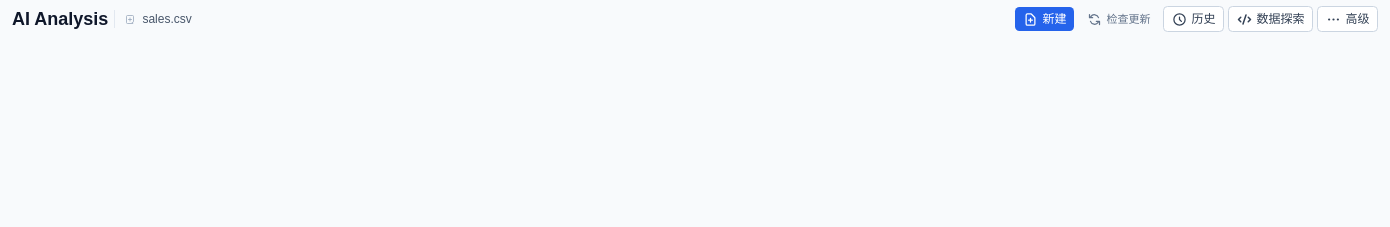
end user mode UI surfaces › localizes all primary and advanced header actions in Mandarin
The width and height of the screenshot is (1390, 227).
Expected: the button "新建" is shown, left=1015, top=7, right=1074, bottom=31
Expected: the button "历史" is shown, left=1164, top=6, right=1224, bottom=32
Click the button "高级". click: click(1348, 19)
box: left=1318, top=6, right=1378, bottom=32
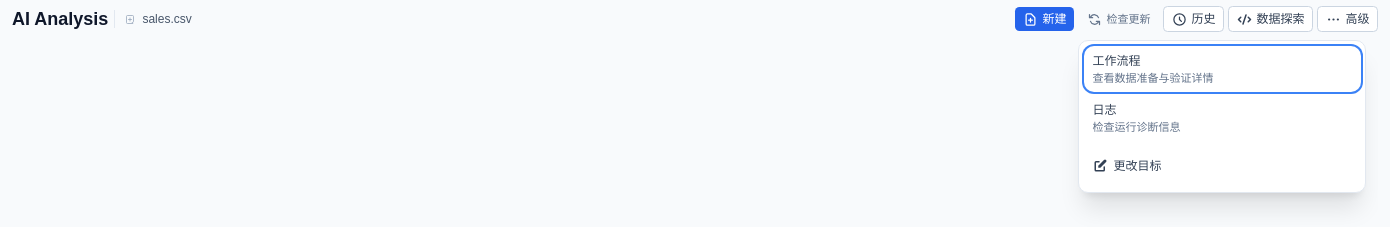
Now the menu item "工作流程 查看数据准备与验证详情" is shown, box left=1084, top=46, right=1360, bottom=92
Now the menu item "日志 检查运行诊断信息" is shown, box left=1084, top=94, right=1360, bottom=140
Now the menu item "更改目标" is shown, box left=1084, top=144, right=1360, bottom=188
